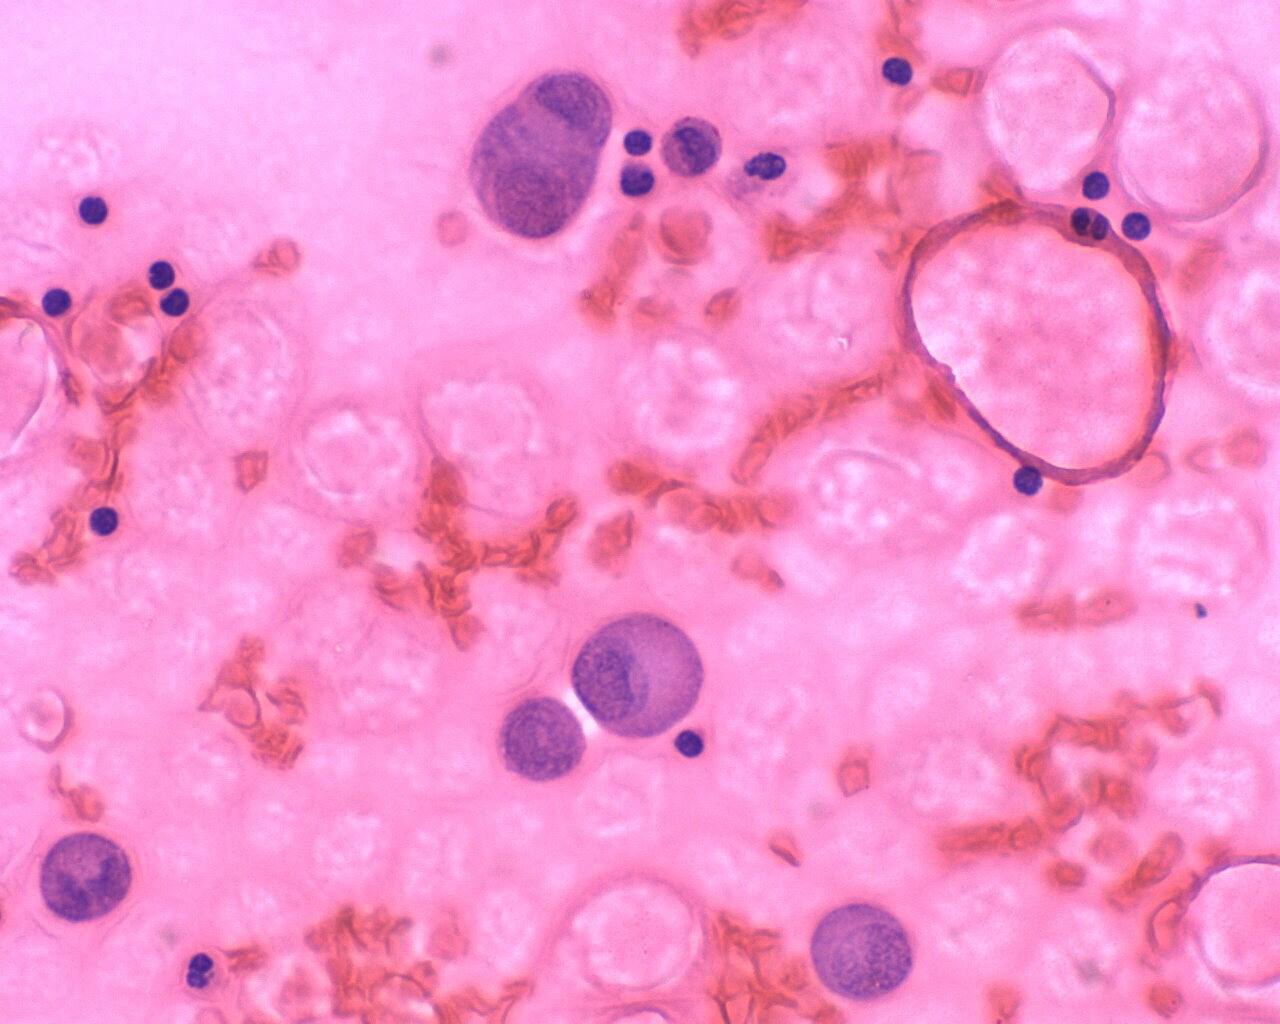ab: (475, 67, 608, 242), (571, 602, 701, 740), (811, 900, 917, 1011), (45, 827, 134, 926), (501, 689, 588, 787), (656, 111, 729, 181)
lymph: (83, 495, 129, 546), (75, 187, 119, 233), (1011, 459, 1052, 504), (874, 53, 920, 92), (616, 120, 658, 159), (1079, 165, 1115, 203), (39, 282, 72, 322)
